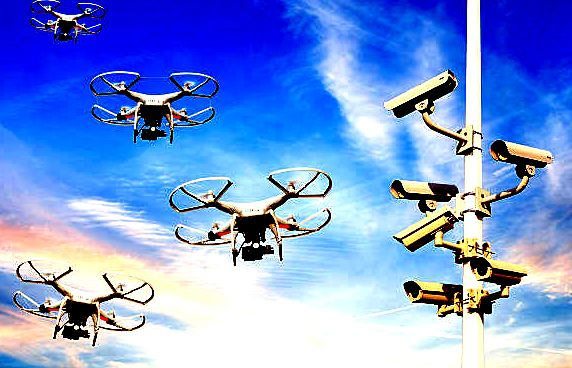Drone: (168, 166, 330, 269), (11, 255, 154, 348), (88, 65, 219, 147), (24, 1, 104, 44)
